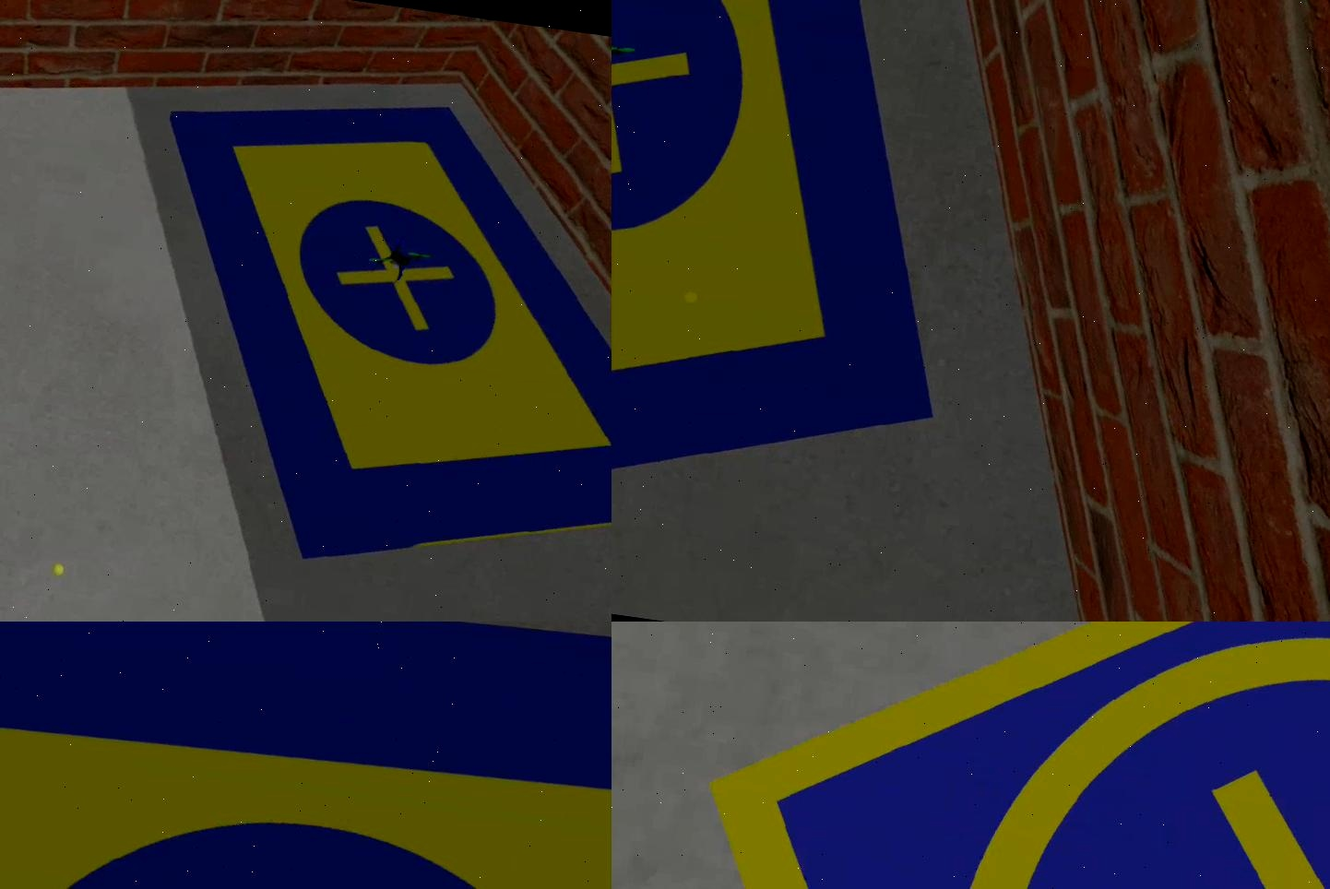large_base: (109, 68, 612, 612), (612, 1, 998, 579), (1, 622, 612, 889)
small_base: (649, 622, 1330, 889)
